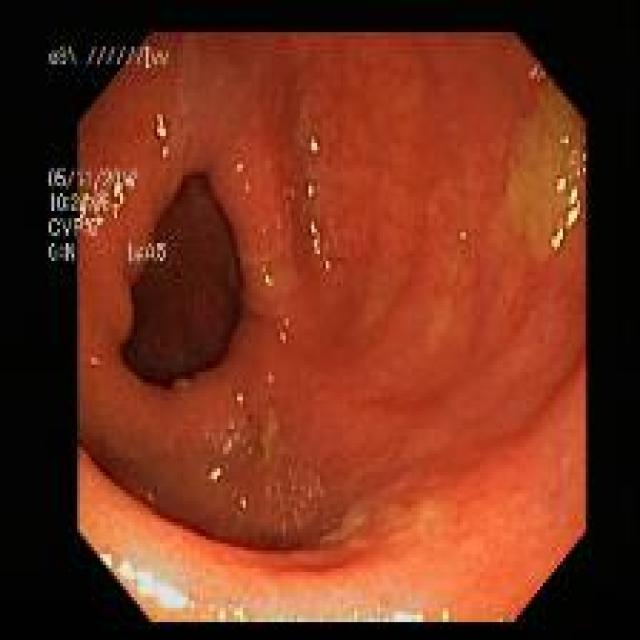ulcerative-colitis: (81, 34, 585, 621)
